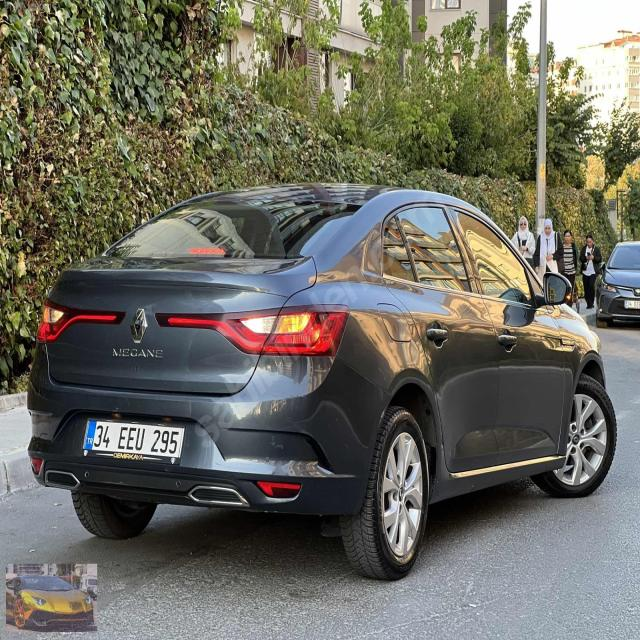renault: (130, 308, 147, 348)
